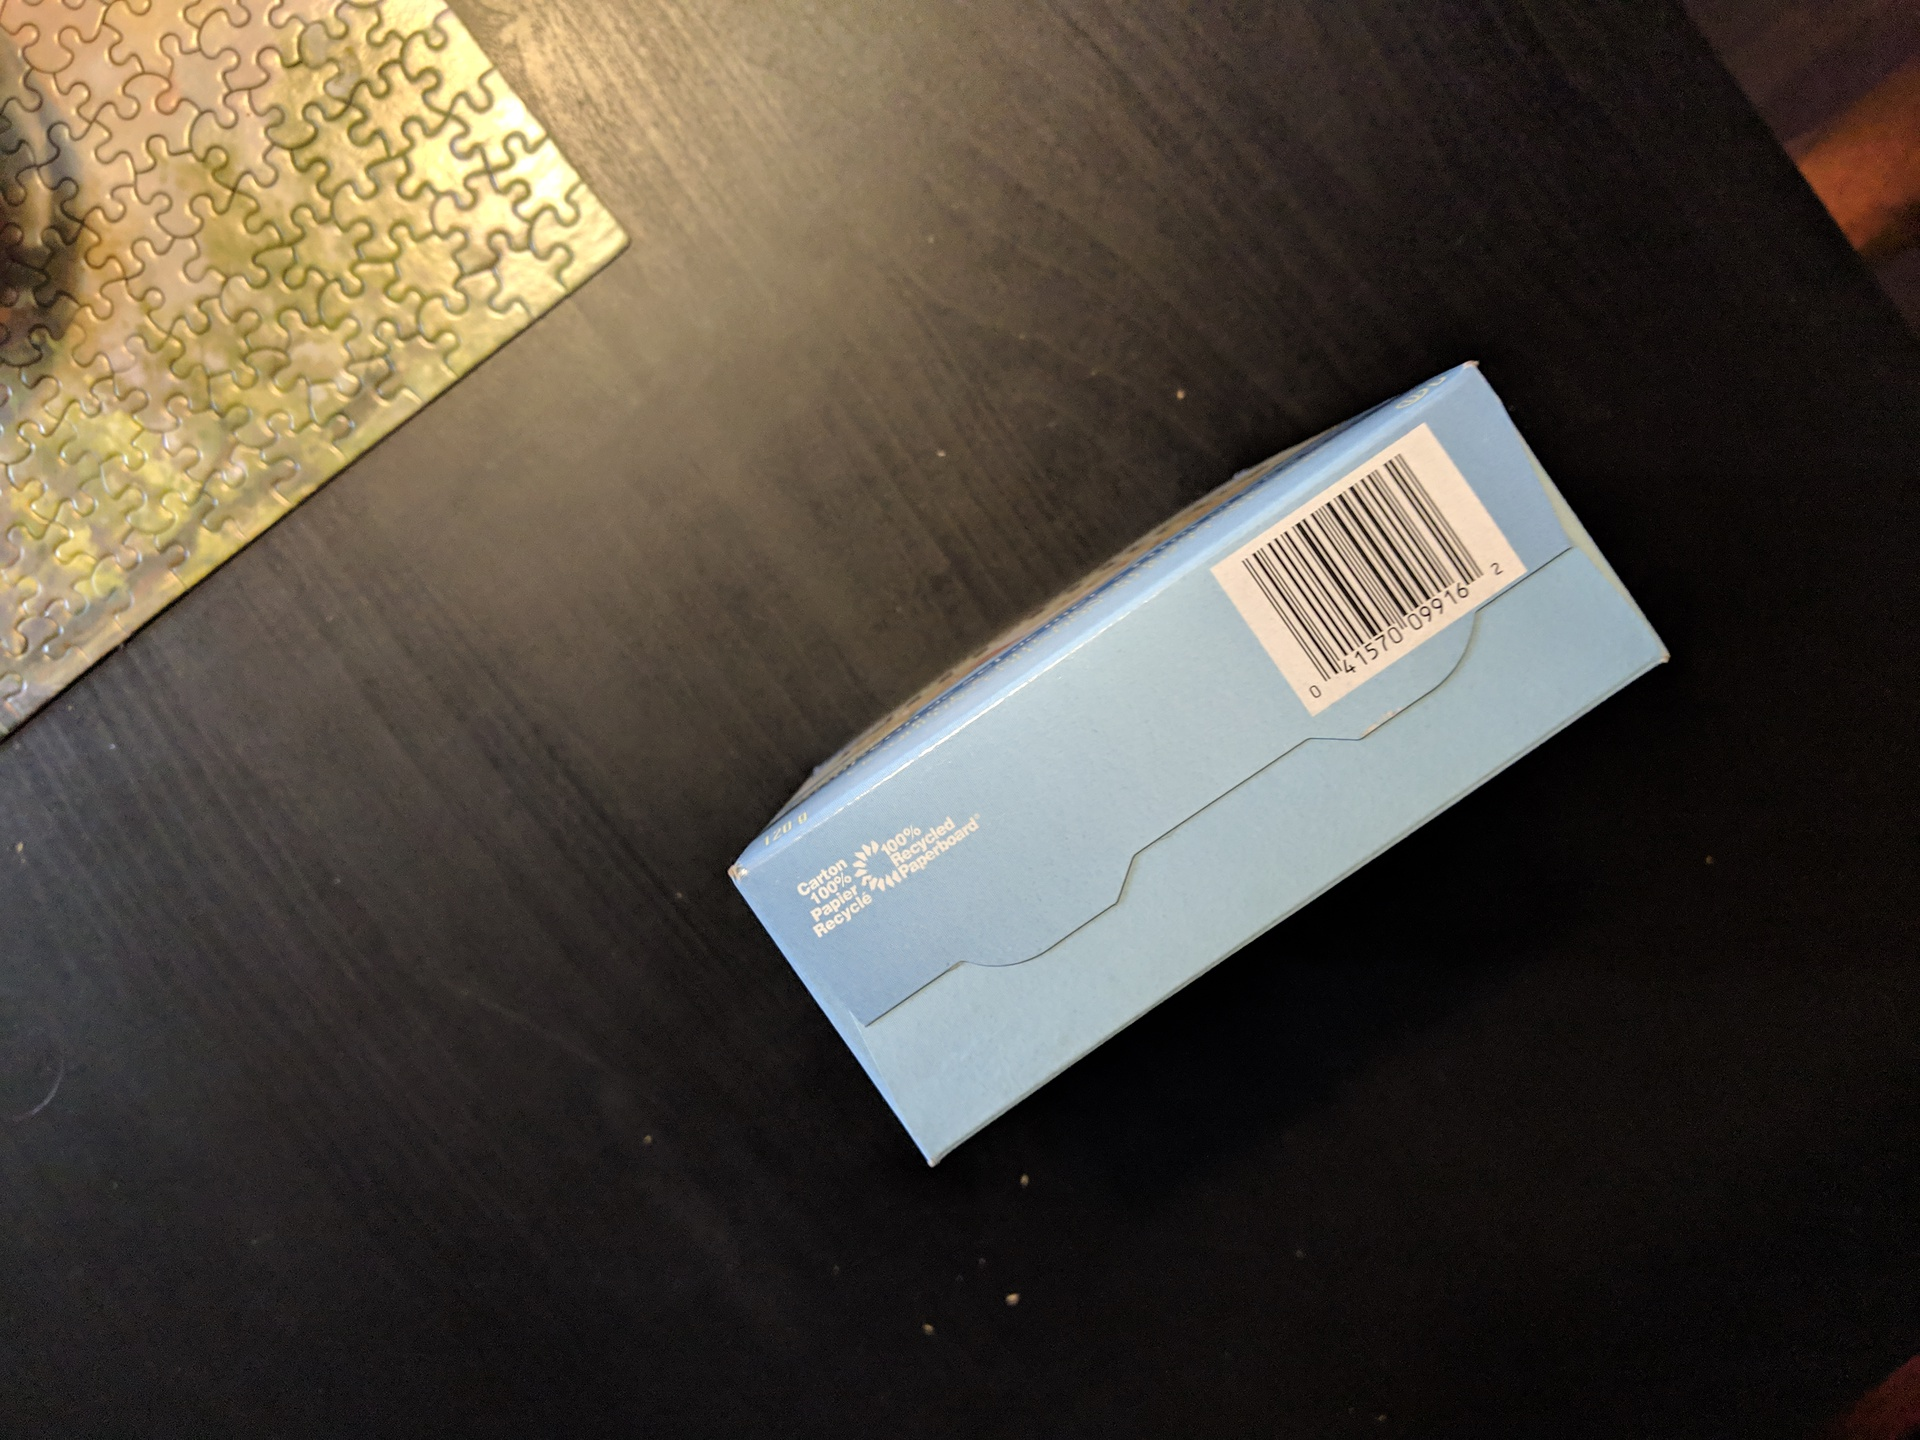blue_diamond_nut_thins_almond_seasalt: (828, 417, 1621, 1088)
